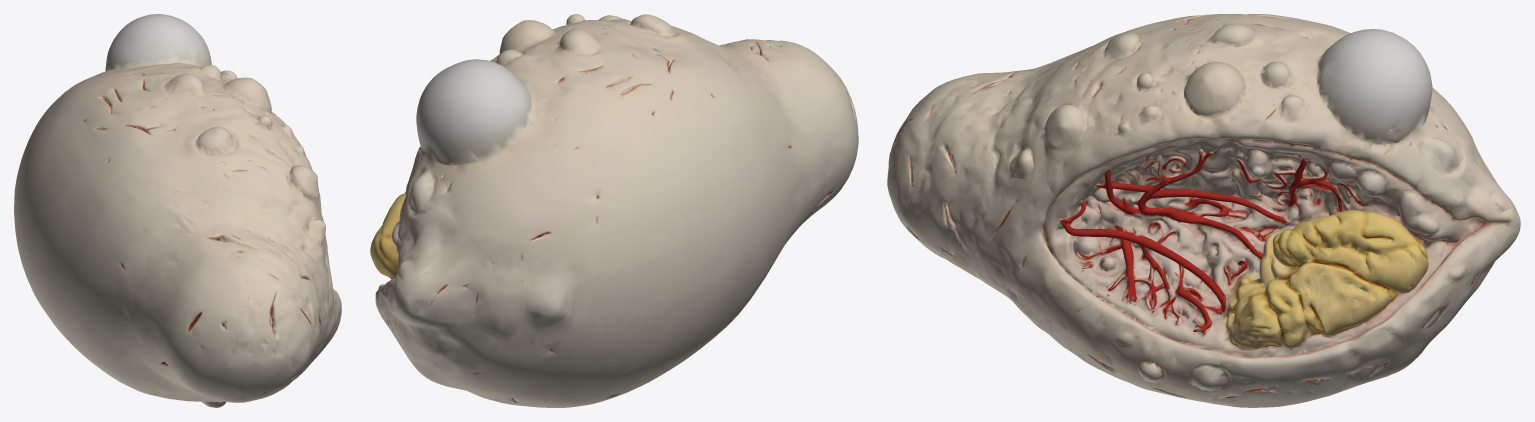
Rendered from ovary.glb.
3 views of the same model, side by side, from view 1: azimuth 30°, elevation 25°; view 2: azimuth 150°, elevation 25°; view 3: azimuth 270°, elevation 25° (orthographic). The views are drawn at different scales.
Parts seen in each view (by area): view 1: tripo_node_915da897-1b69-4169-83f6-47d108ad016b; view 2: tripo_node_915da897-1b69-4169-83f6-47d108ad016b; view 3: tripo_node_915da897-1b69-4169-83f6-47d108ad016b.
Boxes of the visible parts, left/top/right/bottom form: tripo_node_915da897-1b69-4169-83f6-47d108ad016b: left=14, top=14, right=341, bottom=407; tripo_node_915da897-1b69-4169-83f6-47d108ad016b: left=370, top=14, right=858, bottom=407; tripo_node_915da897-1b69-4169-83f6-47d108ad016b: left=887, top=14, right=1520, bottom=407.
Size of the model in its own units: 0.5751 by 0.6452 by 0.9998.
Materials: 1 (1 with a texture image).
